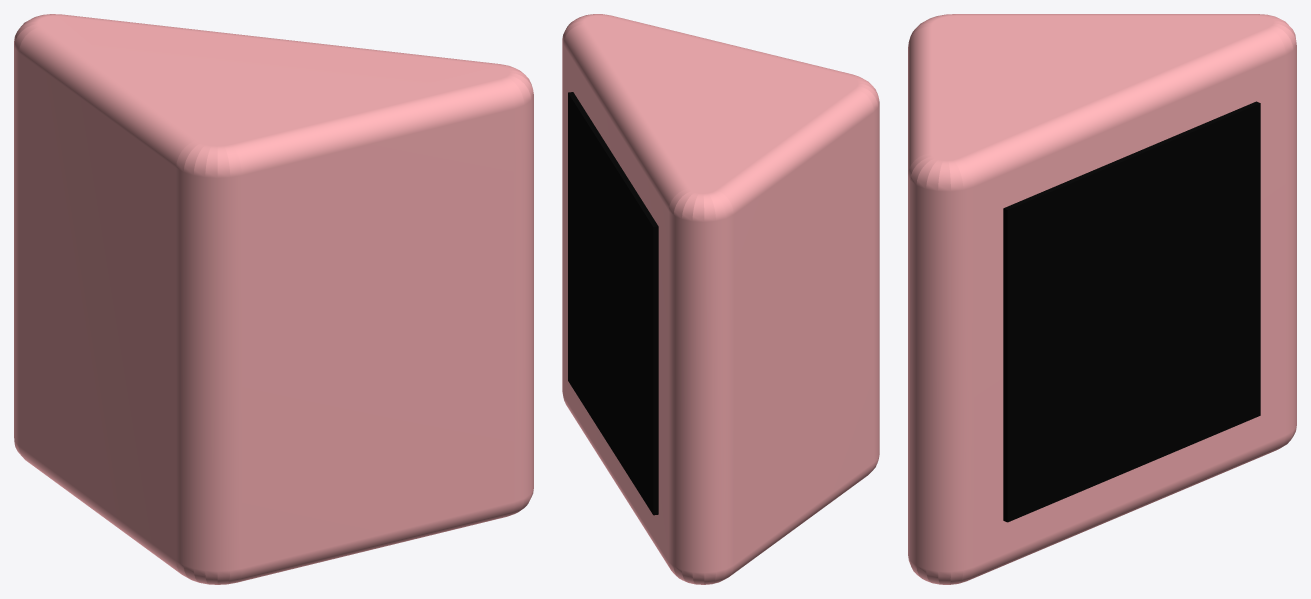
File: MoveMirror.fbx
3 views of the same model, side by side, from view 1: azimuth 30°, elevation 25°; view 2: azimuth 150°, elevation 25°; view 3: azimuth 270°, elevation 25° (orthographic). The views are drawn at different scales.
Parts seen in each view (by area): view 1: MoveMirrorBody; view 2: MoveMirrorBody, MoveMirrorReflect; view 3: MoveMirrorBody, MoveMirrorReflect.
Boxes of the visible parts, left/top/right/bottom form: MoveMirrorBody: left=14, top=14, right=533, bottom=584; MoveMirrorBody: left=562, top=14, right=879, bottom=584; MoveMirrorReflect: left=568, top=92, right=658, bottom=515; MoveMirrorBody: left=908, top=14, right=1296, bottom=584; MoveMirrorReflect: left=1003, top=101, right=1260, bottom=522.
Bounding box in the file's own units: 0.8346 × 1 × 0.8346.
